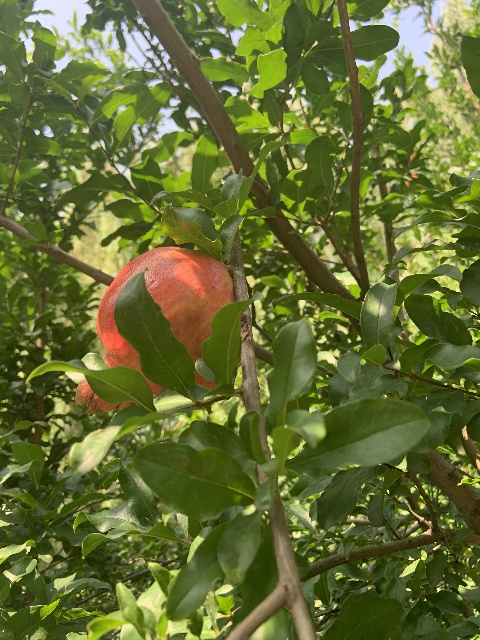ripe: (75, 246, 234, 415)
